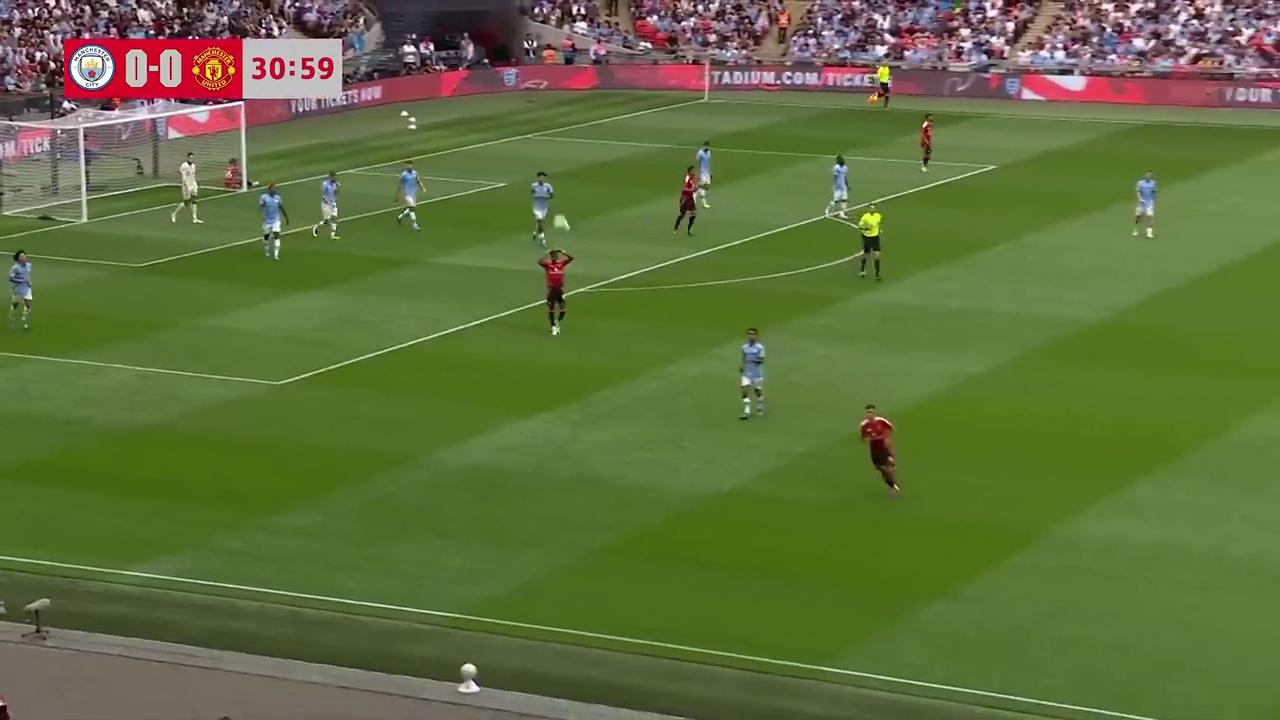player: (858, 403, 901, 497), (537, 247, 573, 336), (738, 326, 766, 418), (171, 152, 203, 225), (258, 182, 287, 259), (7, 249, 34, 330), (396, 160, 424, 232), (312, 170, 341, 239), (529, 170, 554, 246), (1131, 171, 1157, 239), (826, 154, 851, 221), (673, 168, 698, 235), (693, 141, 712, 205), (918, 114, 933, 172), (221, 156, 240, 194)
referee: (857, 203, 883, 280), (871, 63, 892, 109)
